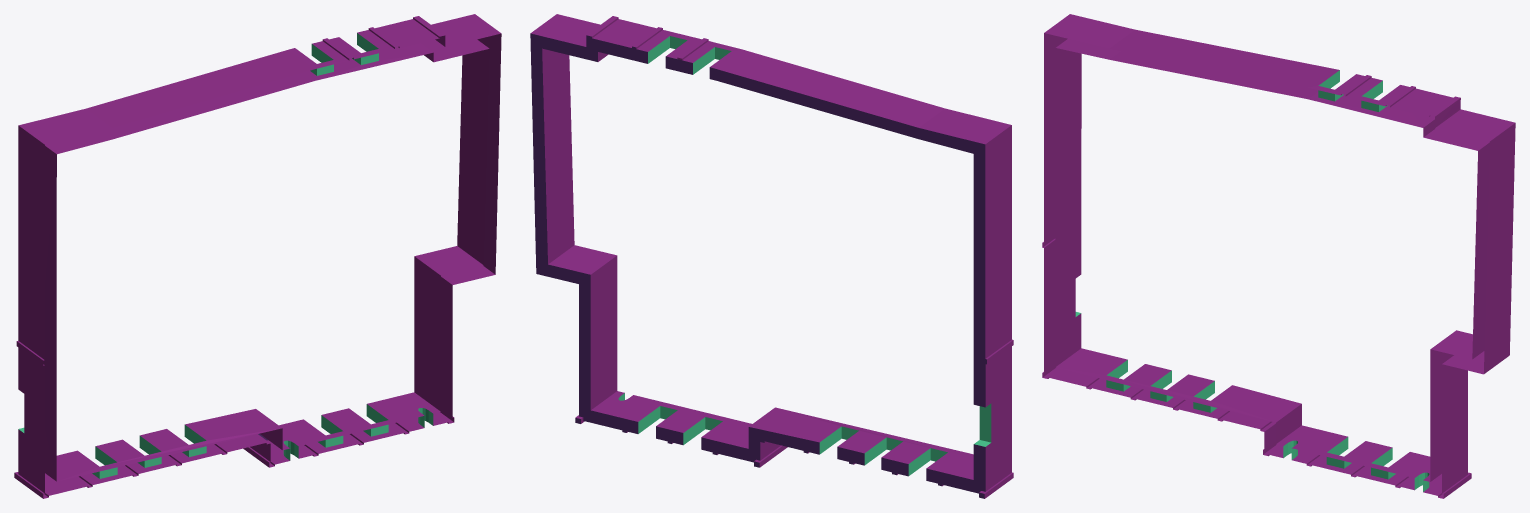
Rendered from Mazowiecie Centrum Sztuki Współczesnej Tier 1.fbx.
3 views of the same model, side by side, from view 1: azimuth 30°, elevation 25°; view 2: azimuth 150°, elevation 25°; view 3: azimuth 330°, elevation 25° (orthographic). The views are drawn at different scales.
Parts seen in each view (by area): view 1: Mazowieckie_Centrum; view 2: Mazowieckie_Centrum; view 3: Mazowieckie_Centrum.
Part boxes in pixels (<box>): Mazowieckie_Centrum: <box>14,14,501,498</box>; Mazowieckie_Centrum: <box>530,14,1013,498</box>; Mazowieckie_Centrum: <box>1042,14,1515,498</box>.
Bounding box in the file's own units: 2.75 × 2.24 × 0.3009.
